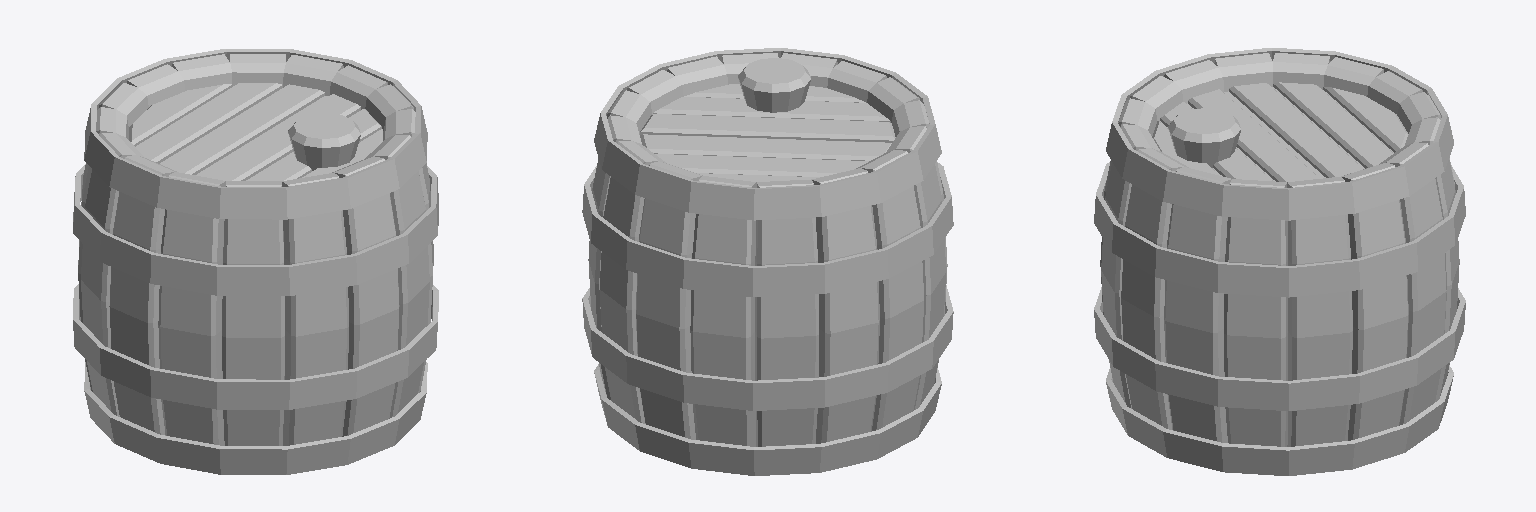
Rendered from Barrel2.obj.
3 renders of one model, left to right at view 1: azimuth 30°, elevation 25°; view 2: azimuth 150°, elevation 25°; view 3: azimuth 270°, elevation 25°, orthographic.
Visible parts, largest first — view 1: Barrel3; view 2: Barrel3; view 3: Barrel3.
Part boxes in pixels (left/top/right/bottom): Barrel3: left=73, top=49, right=438, bottom=474; Barrel3: left=582, top=48, right=953, bottom=475; Barrel3: left=1094, top=48, right=1465, bottom=475.
Size of the model in its own units: 3.68 by 3.28 by 3.68.